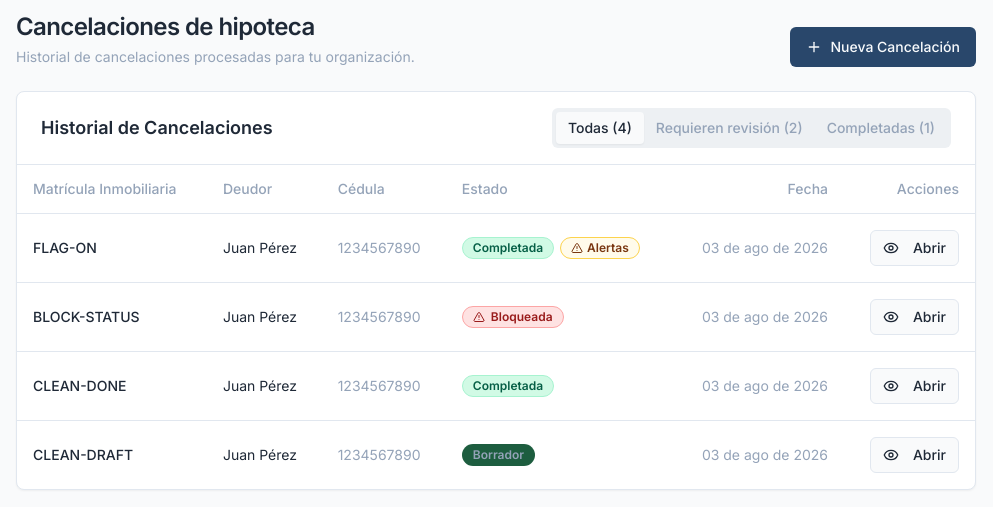
Cancelaciones — visibilidad de revision_manual_requerida › tab 'Requieren revisión' filtra sólo filas con flag o status bloqueante
The image size is (993, 507).
Expected: the text "FLAG-ON" is shown, [17,213,207,282]
Click the tab "Requieren revisión (2)" at {"x": 729, "y": 128}, box [644,112,815,144]
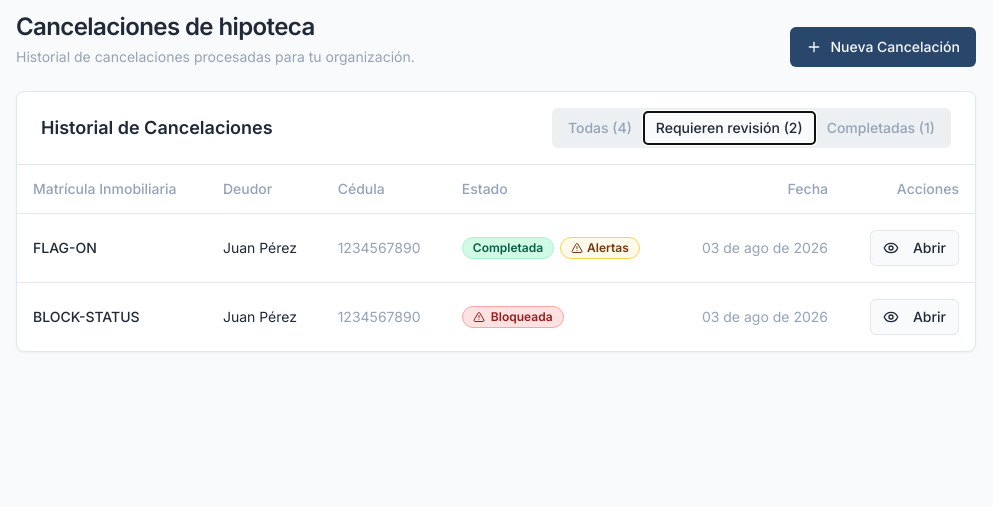
Expected: the text "FLAG-ON" is shown, [17,213,207,282]
Now the text "CLEAN-DONE" is gone
Now the text "CLEAN-DRAFT" is gone
